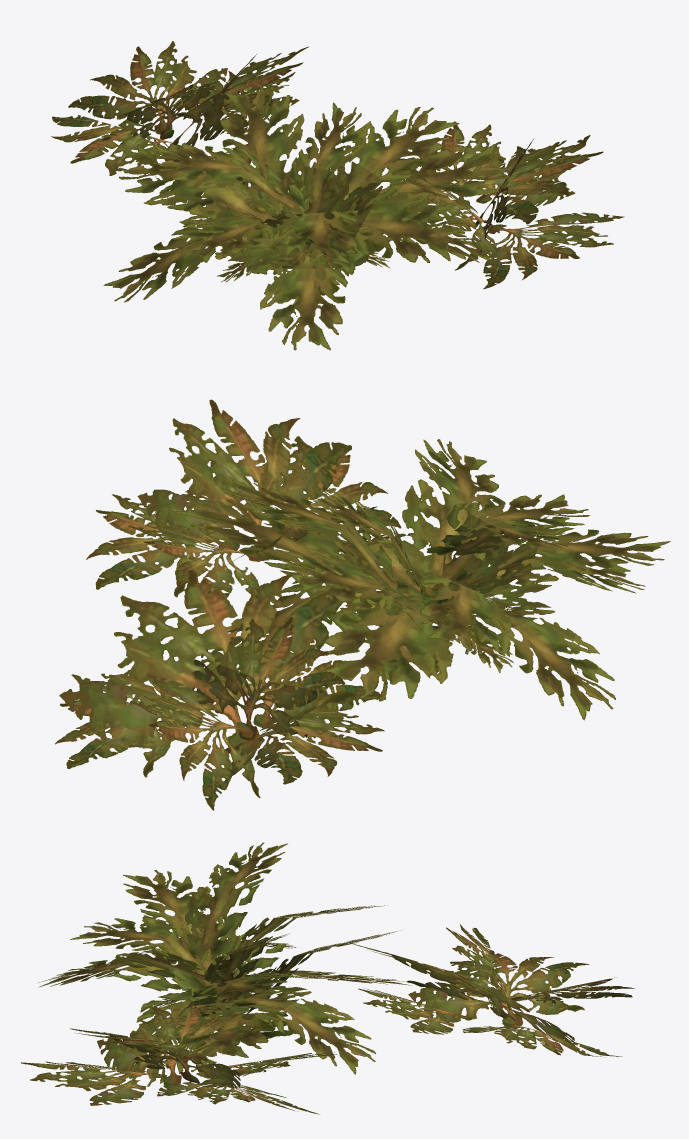
Rendered from S_Plant_Yellow013.FBX.
3 renders of one model, top to bottom at view 1: azimuth 30°, elevation 25°; view 2: azimuth 150°, elevation 25°; view 3: azimuth 270°, elevation 25°, orthographic. The views are drawn at different scales.
Visible parts, largest first — view 1: S_Plant_Yellow013; view 2: S_Plant_Yellow013; view 3: S_Plant_Yellow013.
Boxes of the visible parts, left/top/right/bottom form: S_Plant_Yellow013: left=51, top=41, right=624, bottom=350; S_Plant_Yellow013: left=55, top=399, right=670, bottom=810; S_Plant_Yellow013: left=21, top=842, right=634, bottom=1114.
Size of the model in its own units: 360 by 443 by 116.
